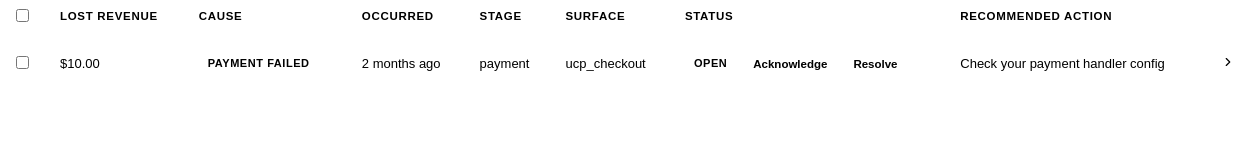
Test case: LedgerEntriesTable — row expand (R13) › shows checkout_id/failure_code/currency/status_changed_at and a deep link when the route exists
Click the button with class "expand-btn": (1228, 64) [1217, 51, 1239, 76]
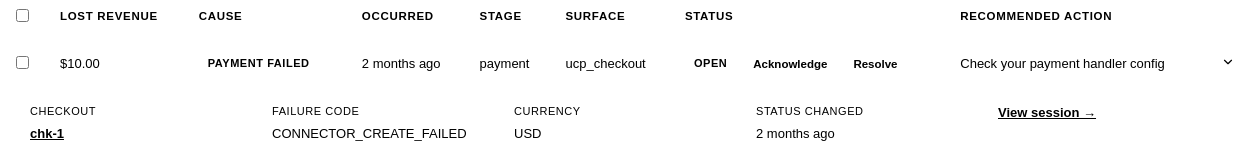
Expected: the element with class "expand-grid" shows "CONNECTOR_CREATE_FAILED", [272, 126, 467, 141]
Expected: the element with class "expand-grid" shows "USD", [514, 126, 542, 141]
Expected: the link with class "mono" reads "chk-1", [30, 126, 64, 141]
